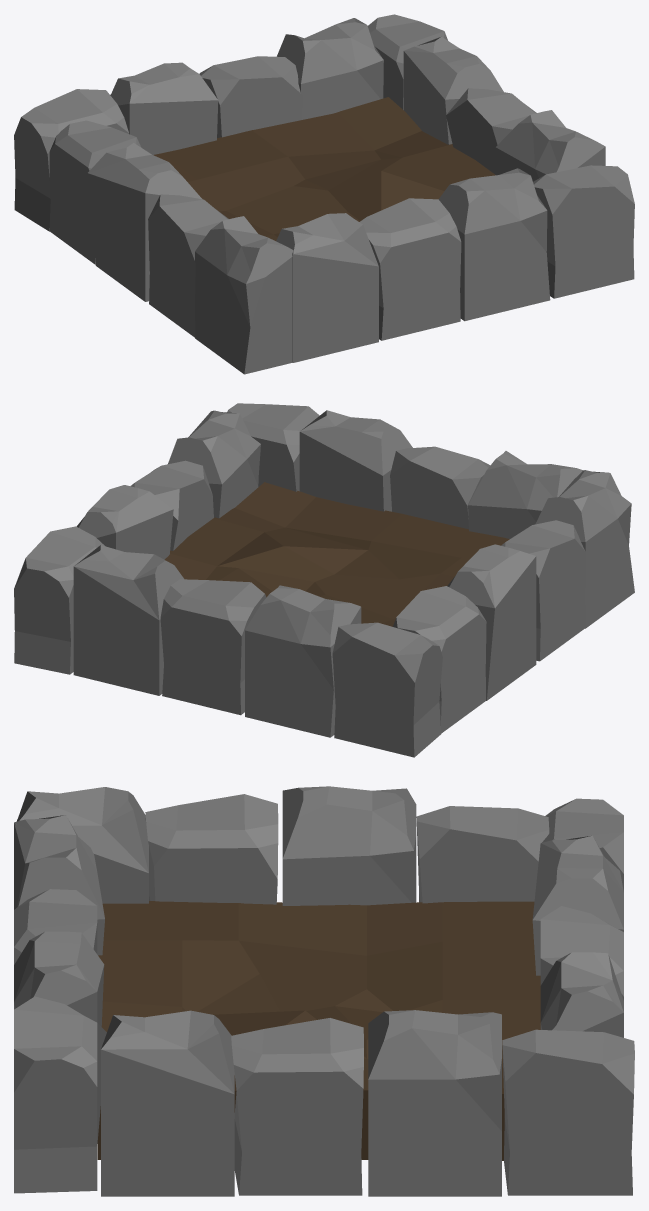
The model's file is Flower Box.fbx.
3 renders of one model, top to bottom at view 1: azimuth 30°, elevation 25°; view 2: azimuth 150°, elevation 25°; view 3: azimuth 270°, elevation 25°, orthographic. The views are drawn at different scales.
Visible parts, largest first — view 1: Flower_Box; view 2: Flower_Box; view 3: Flower_Box.
Boxes of the visible parts, <box> form: Flower_Box: <box>14,14,634,374</box>; Flower_Box: <box>14,403,634,757</box>; Flower_Box: <box>14,786,634,1196</box>.
Bounding box in the file's own units: 114 × 33.91 × 113.
